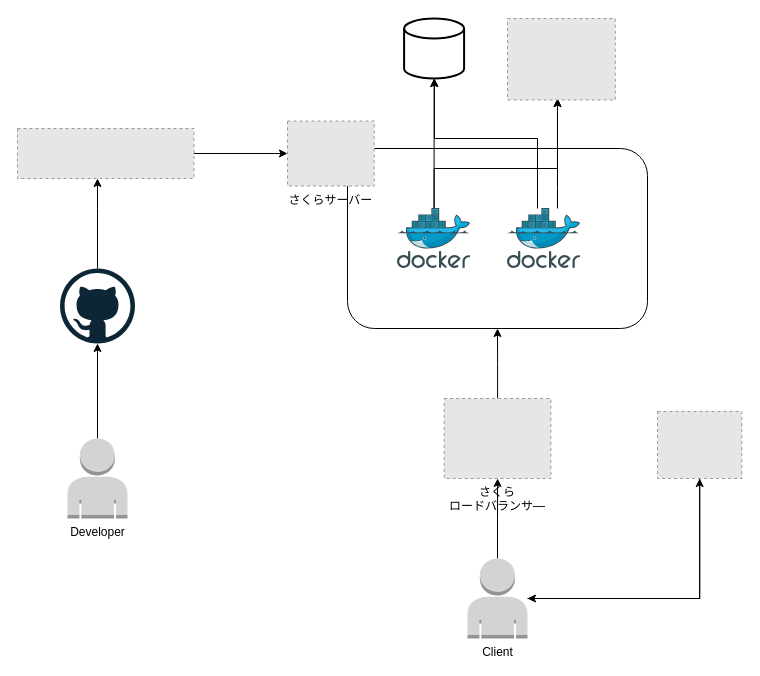
This 760x676 diagram has some shape labels left out. Grey dashed boxes stand in for pictures. Here are the shapes that lost their labels. From the top down, the centre of each, then its label:
At (434,48): "DB".
At (97,306): "GitHub".
